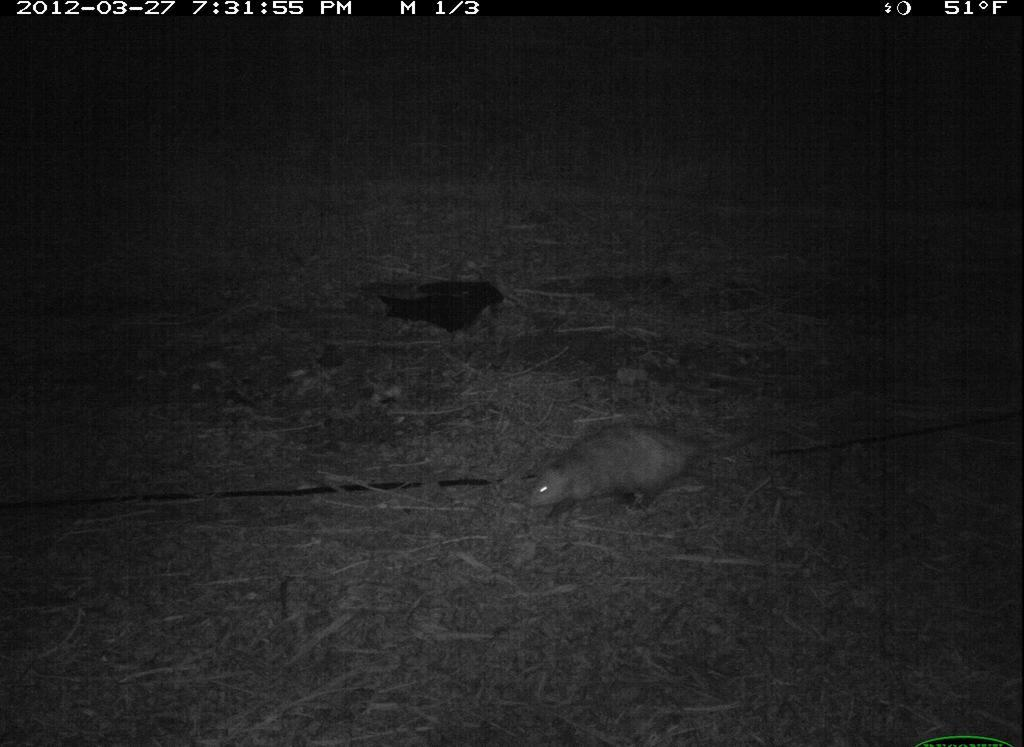opossum: (525, 413, 795, 524)
